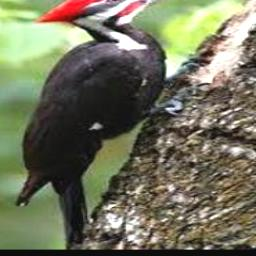Woodpecker: (17, 0, 199, 249)
